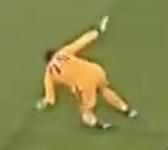goalkeeper: (23, 3, 146, 132)
